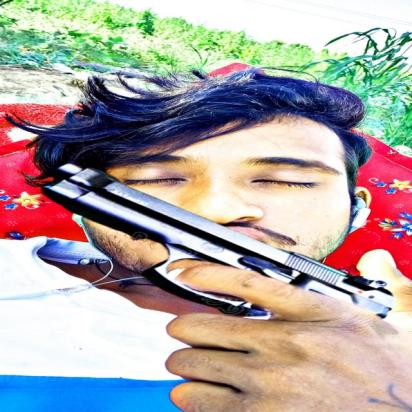Gun: (35, 161, 412, 374)
